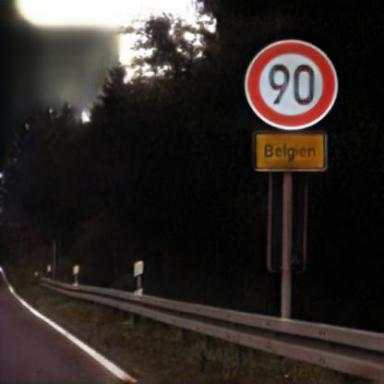Speed_limit_90: (247, 45, 340, 129)
